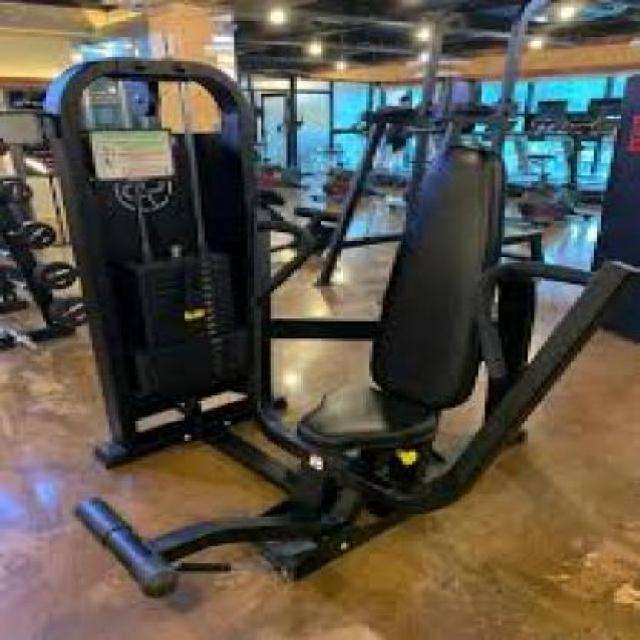Chest Press machine: (43, 49, 640, 608)
